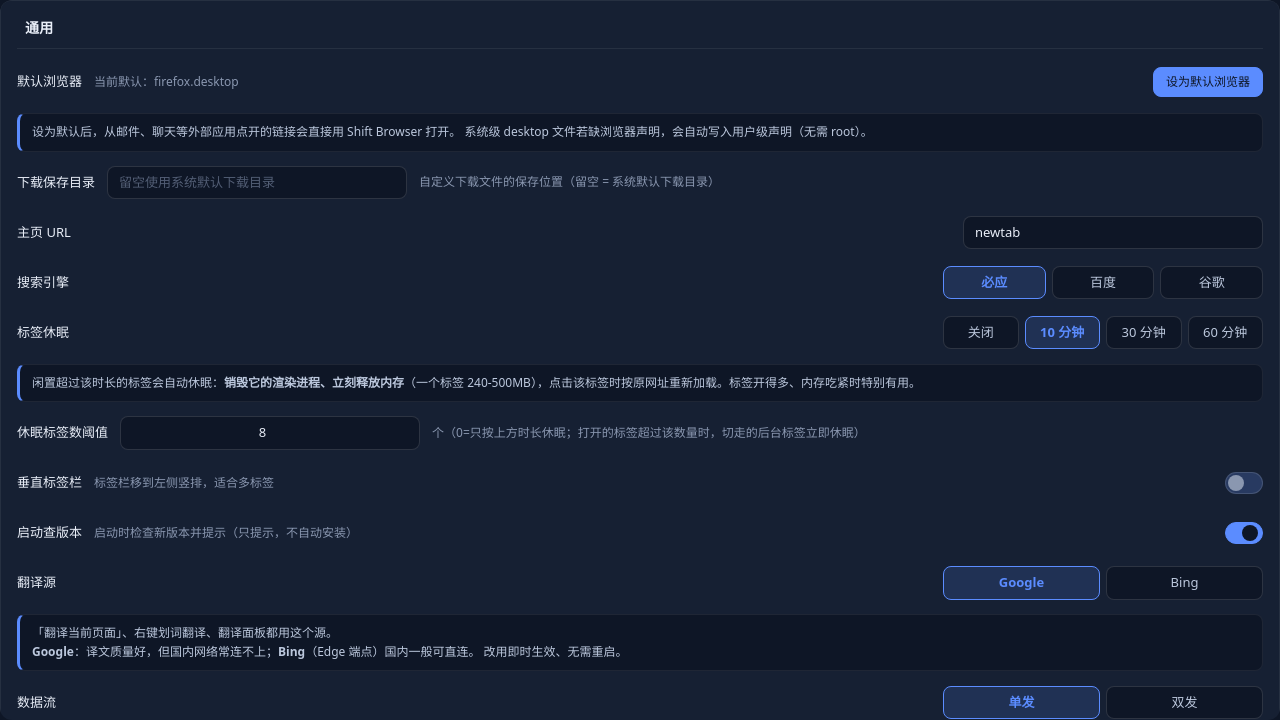
Test: 默认浏览器 › 点击设默认：成功后状态回写 + success toast
Click the button with class "mini-btn" at point(1208, 82), box [1153, 67, 1263, 97]
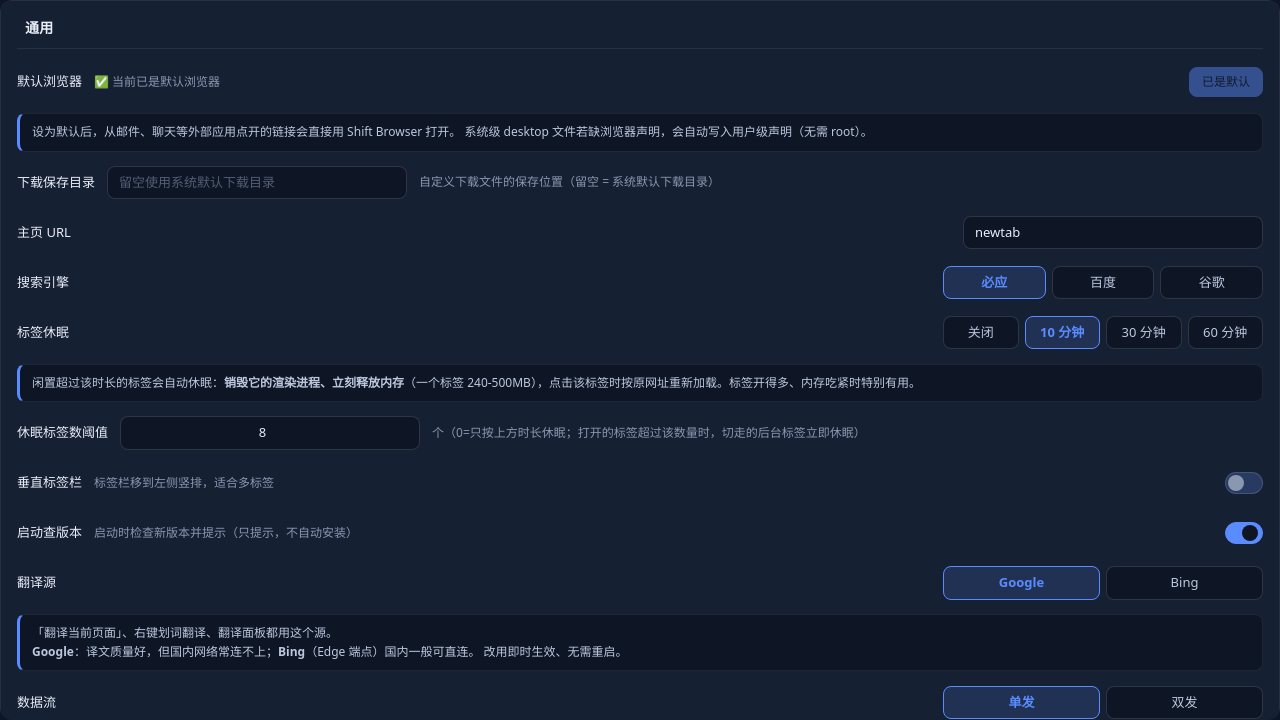
expect the text "当前已是默认浏览器" is shown: met, box [94, 73, 220, 90]
